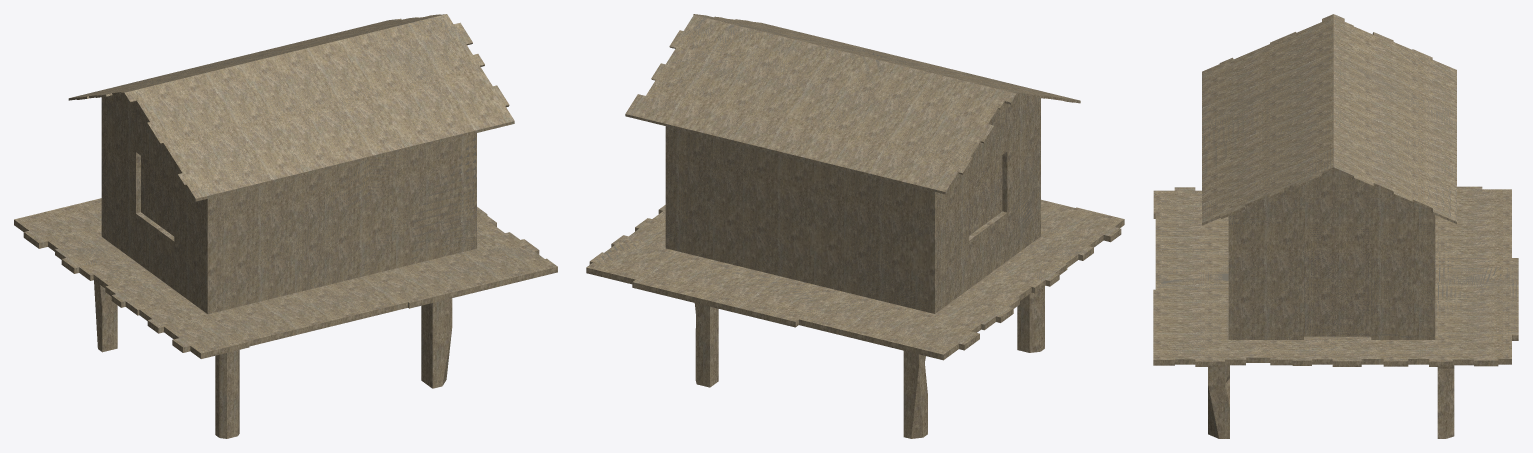
File: House 5.fbx
The picture shows the model from 3 angles, left to right: view 1: azimuth 30°, elevation 25°; view 2: azimuth 150°, elevation 25°; view 3: azimuth 270°, elevation 25°; orthographic projection. The views are drawn at different scales.
Parts seen in each view (by area): view 1: Model; view 2: Model; view 3: Model.
Part boxes in pixels (bbox=[...]): Model: bbox=[14, 14, 557, 438]; Model: bbox=[586, 14, 1124, 438]; Model: bbox=[1153, 14, 1518, 438].
Bounding box in the file's own units: 213 × 170 × 188.
